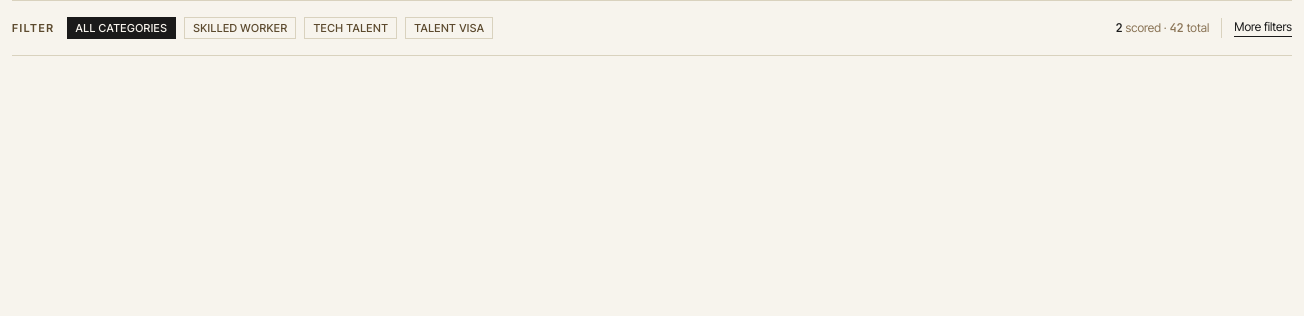
Test case: RankingsFilters — More filters disclosure › opens the disclosure on toggle and exposes search/country/region/range
This screenshot has width=1304, height=316.
Click the button with test id "more-filters-toggle" at x=1263, y=28, box [1234, 19, 1292, 37]
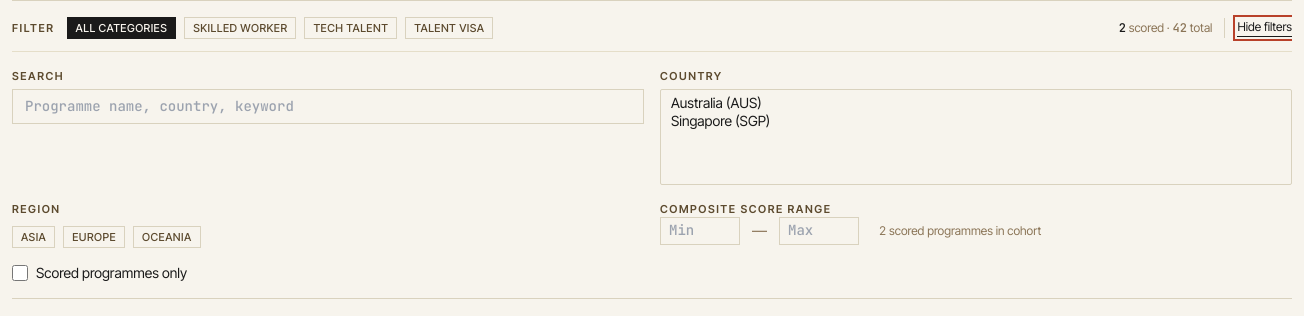
expect the element with test id "more-filters" is shown: met
expect the search field named "Search programmes" is shown: met, box [12, 88, 644, 124]
expect the dropdown named "Filter by country" is shown: met, box [660, 88, 1292, 184]
